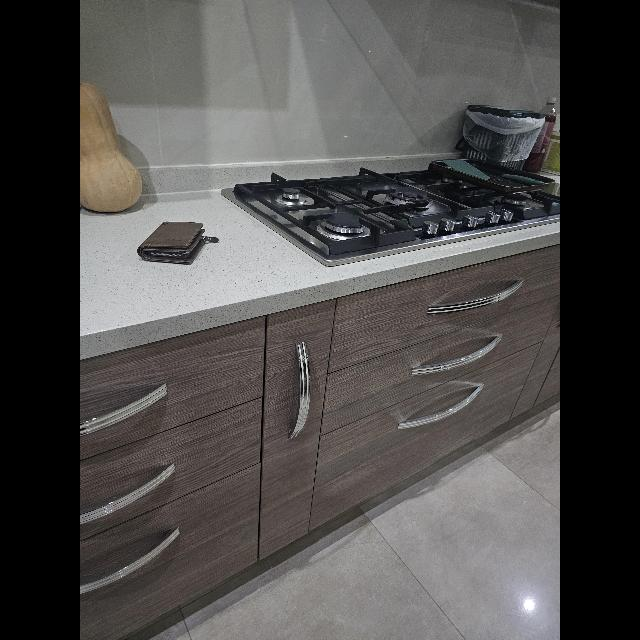Wallet: (137, 220, 215, 264)
